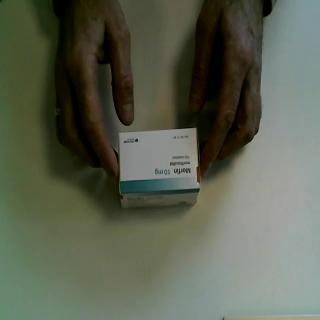morfin10mg: (117, 126, 202, 210)
